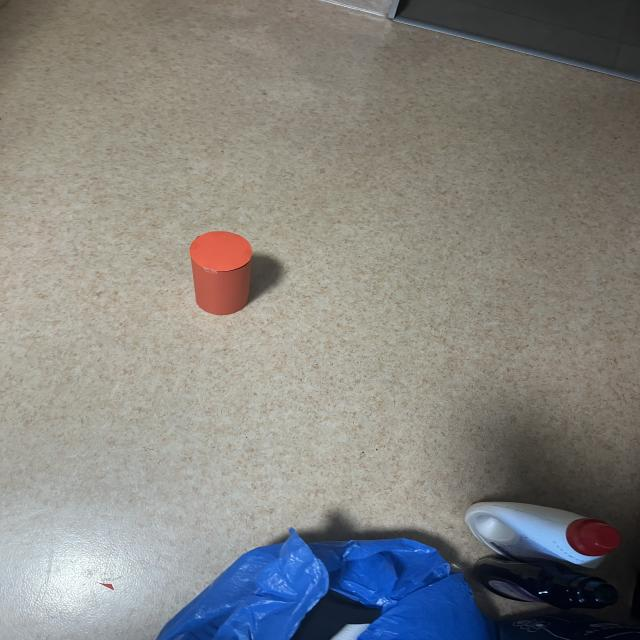przeszkoda: (189, 231, 252, 315)
